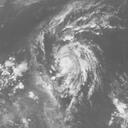cyclone: (54, 42, 98, 99)
